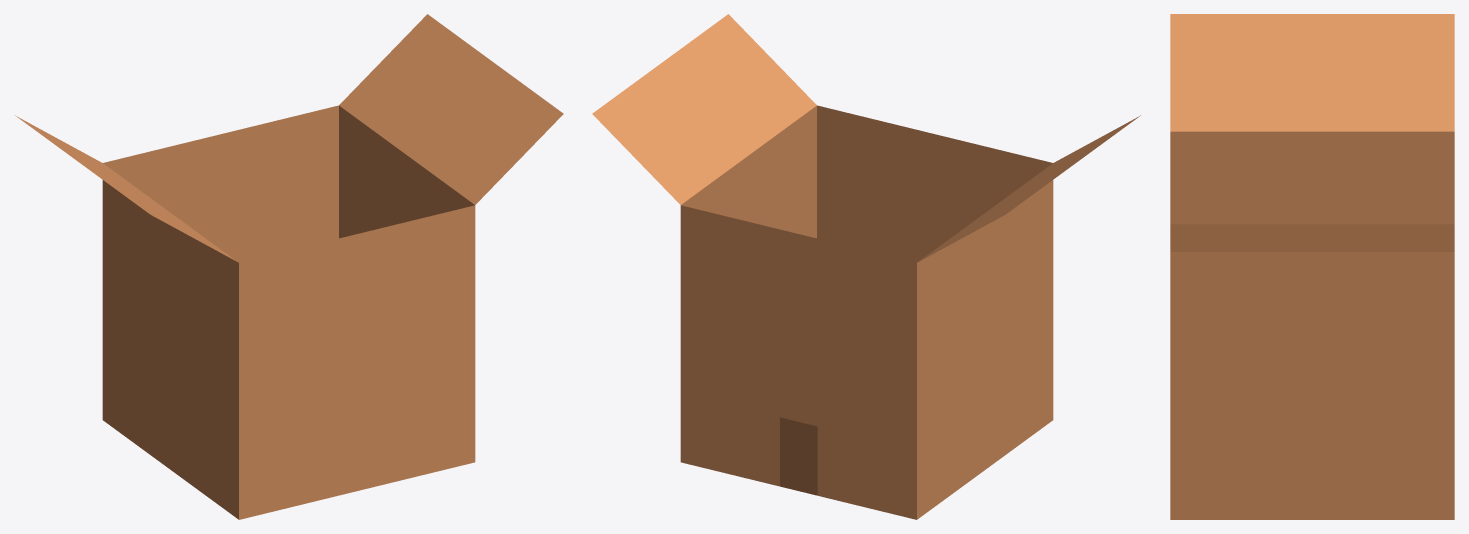
Rendered from cardboardBox-transformed.glb.
3 renders of one model, left to right at view 1: azimuth 30°, elevation 25°; view 2: azimuth 150°, elevation 25°; view 3: azimuth 270°, elevation 25°, orthographic. The views are drawn at different scales.
Visible parts, largest first — view 1: cardboardBoxOpen; view 2: cardboardBoxOpen; view 3: cardboardBoxOpen.
Part boxes in pixels (x1,y1,x2,y2): cardboardBoxOpen: (15,14,563,519); cardboardBoxOpen: (592,14,1140,519); cardboardBoxOpen: (1170,14,1454,519).
Size of the model in its own units: 0.3719 by 0.281 by 0.2125.
